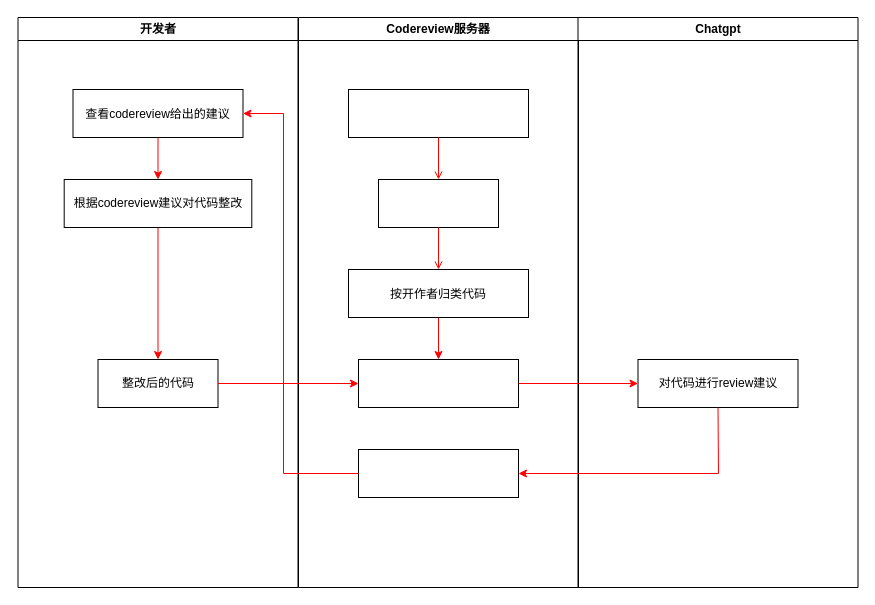
Image size: 875x605. Some labels were removed from this diagram. Each missing label, with the centre of its shape:
"review后的代码" goes at (x=438, y=473).
"分析过滤代码" goes at (x=438, y=203).
"定时从gitlab仓库获取差异代码" goes at (x=438, y=113).
"组装Codereview的prompt" goes at (x=438, y=383).
